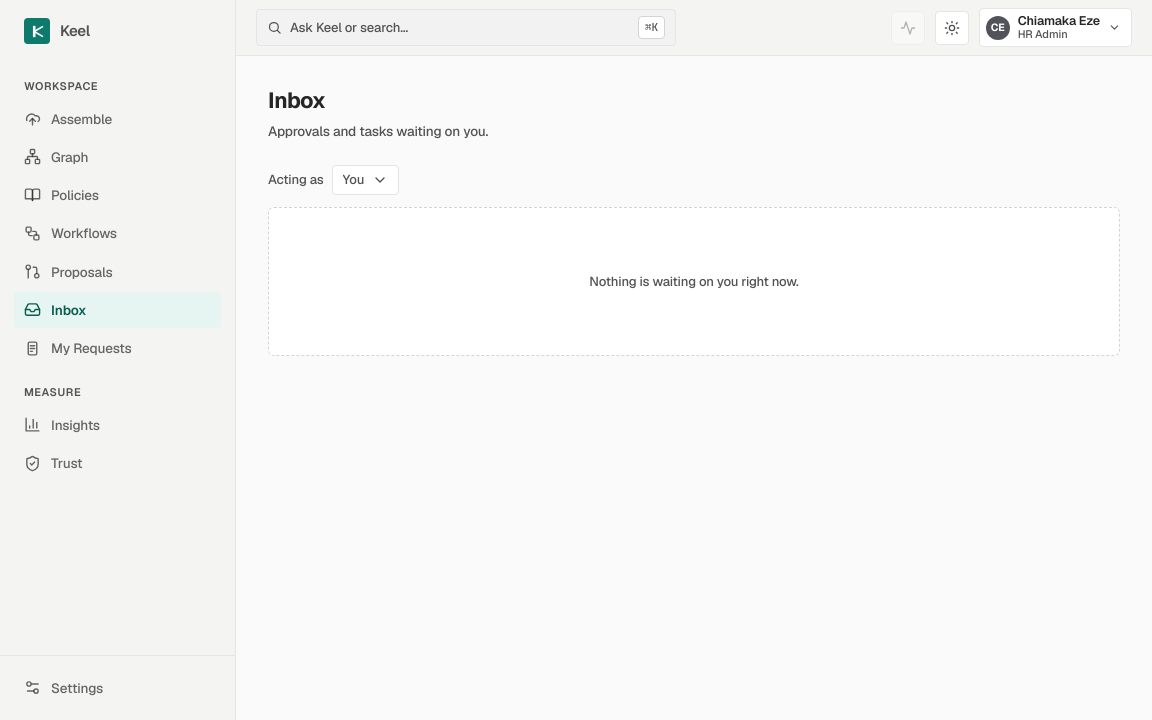
Test: /inbox › as an hr_admin › can approve a step assigned to someone else
What coordinates should you click on to do the following:
click the dropdown named "Acting as"
I would click on:
 (365, 180)
Its box is [332,165,399,195].
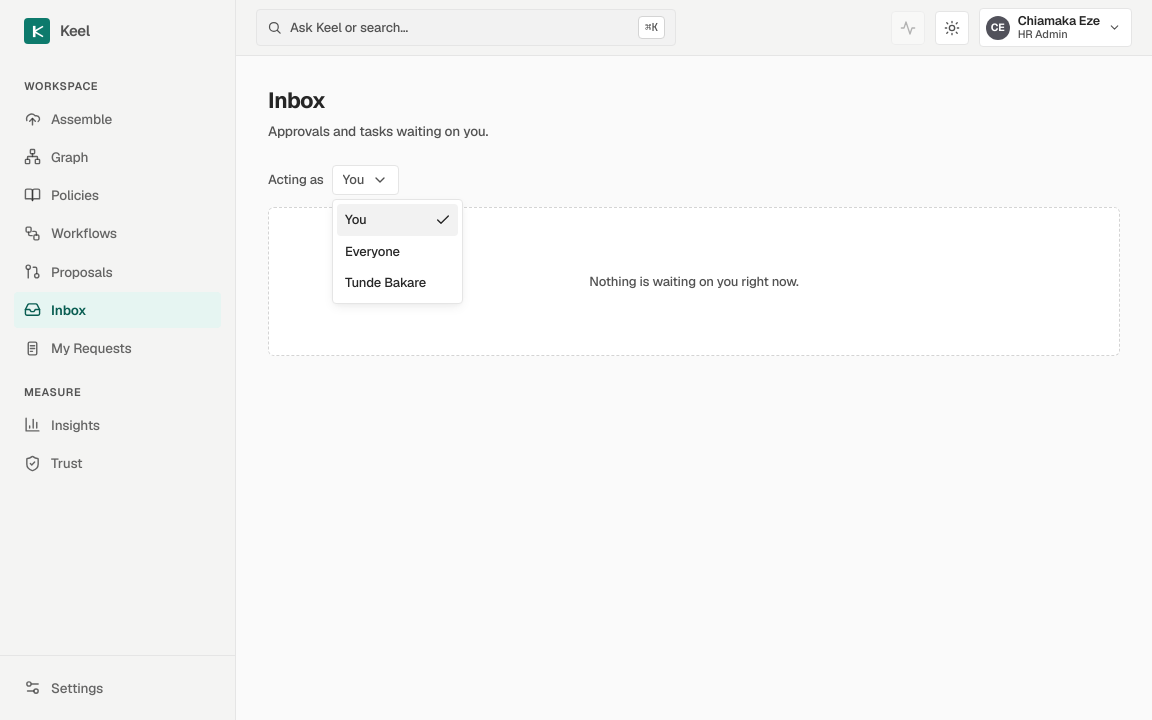
What coordinates should you click on to do the following:
click the option "Everyone"
I would click on:
 (372, 251)
Its box is [345,242,400,260].
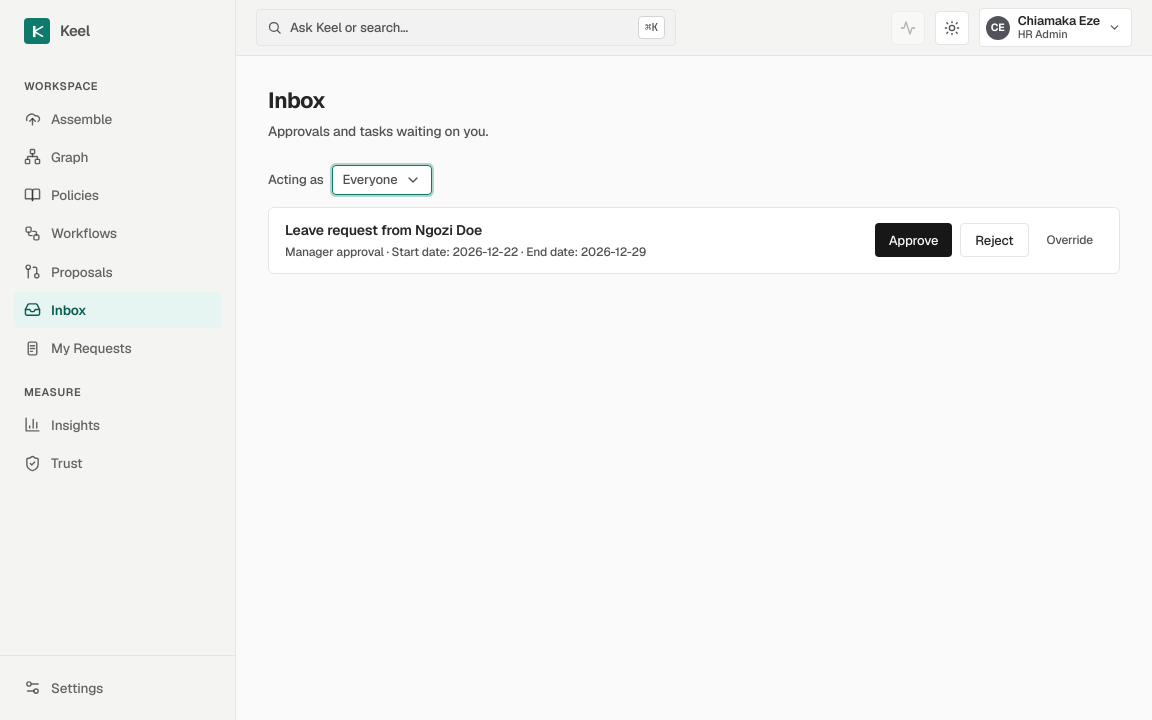
What coordinates should you click on to do the following:
click the button "Approve"
I would click on:
 (914, 240)
Its box is [875,223,952,257].
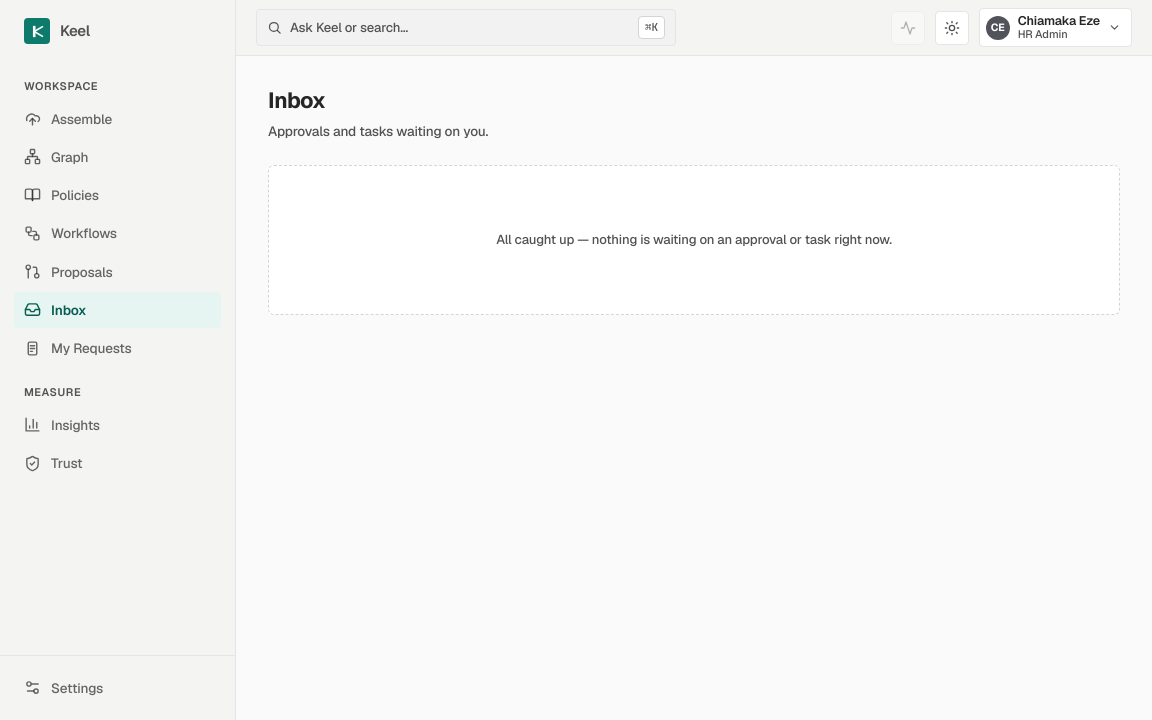
Now the text "All caught up" is shown, box [496,231,892,248]
